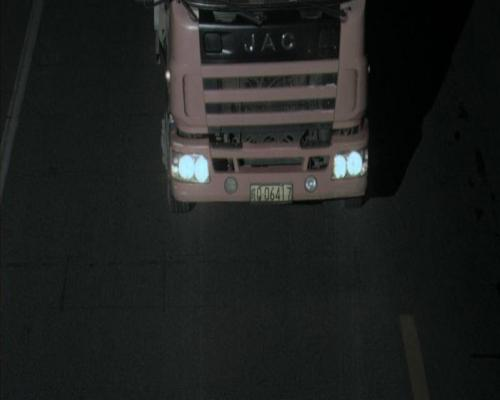Carplate: (247, 177, 295, 211)
